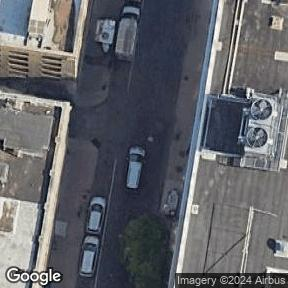vegetation: (116, 214, 178, 288)
